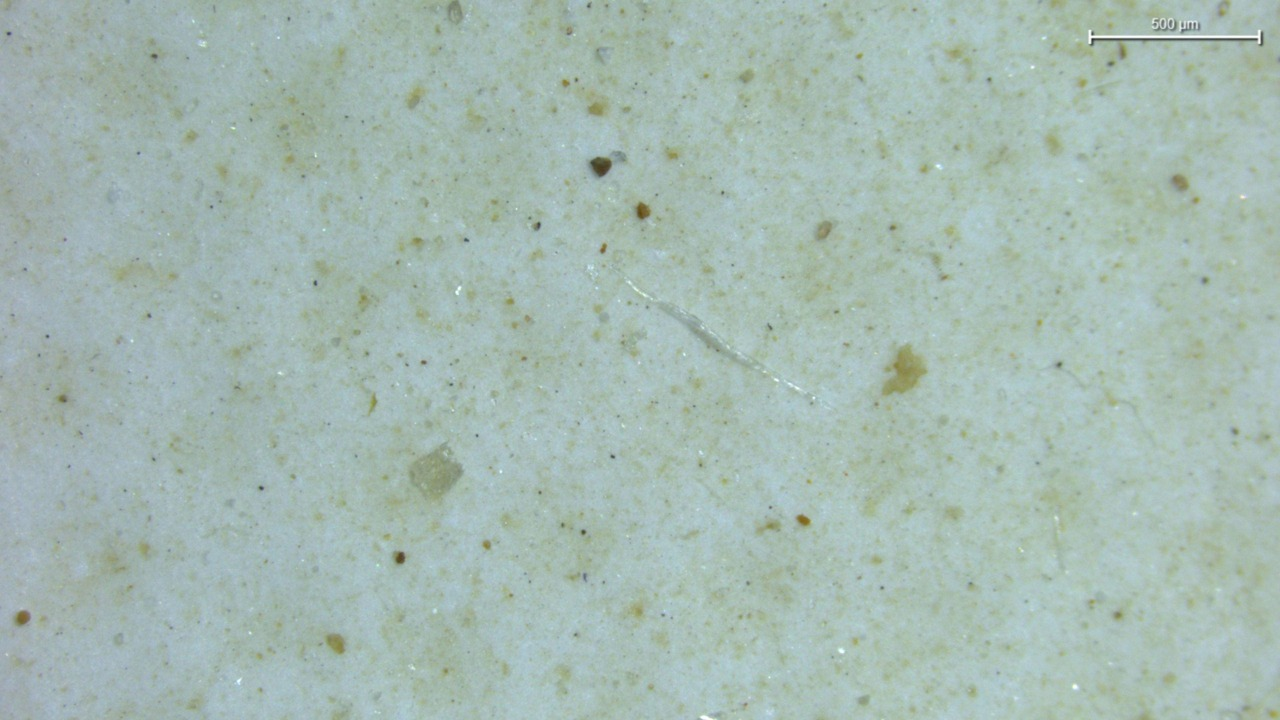microplastic_fragment: (409, 445, 463, 499)
